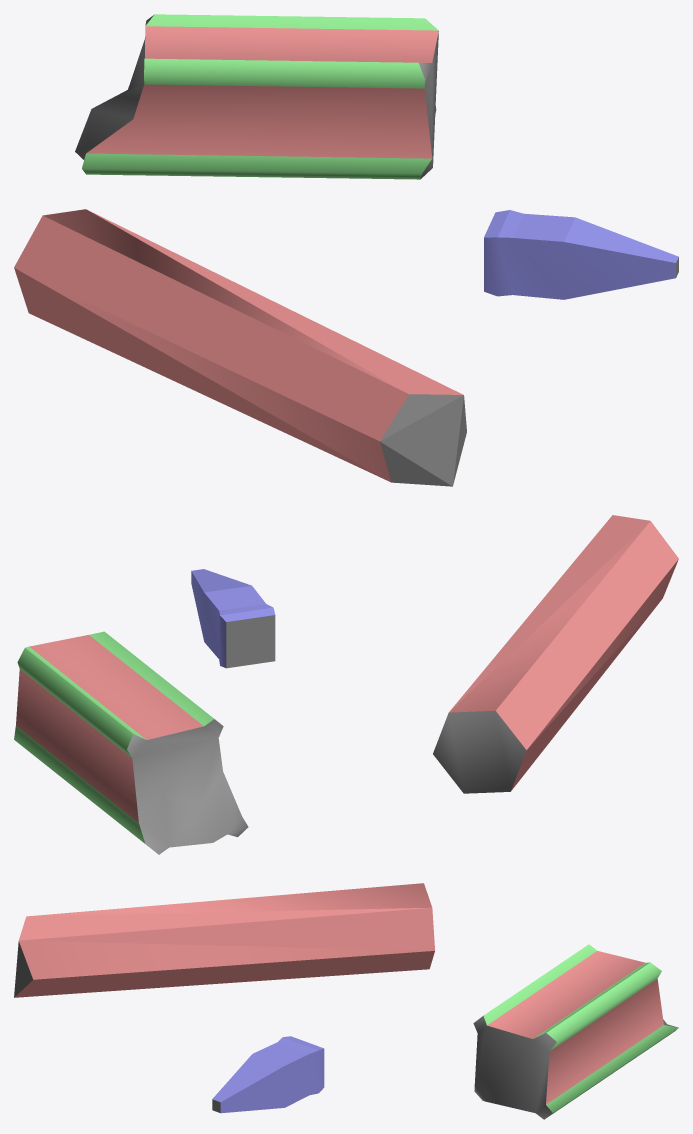
The model's file is world_obj26.gltf.
3 renders of one model, top to bottom at view 1: azimuth 30°, elevation 25°; view 2: azimuth 150°, elevation 25°; view 3: azimuth 270°, elevation 25°, orthographic. The views are drawn at different scales.
Visible parts, largest first — view 1: world_obj26; view 2: world_obj26; view 3: world_obj26.
Boxes of the visible parts, x1,y1,x2,y2 form: world_obj26: [14, 14, 678, 486]; world_obj26: [14, 515, 678, 854]; world_obj26: [14, 883, 678, 1119].
Bounding box in the file's own units: 1.99 × 0.4459 × 2.99.
